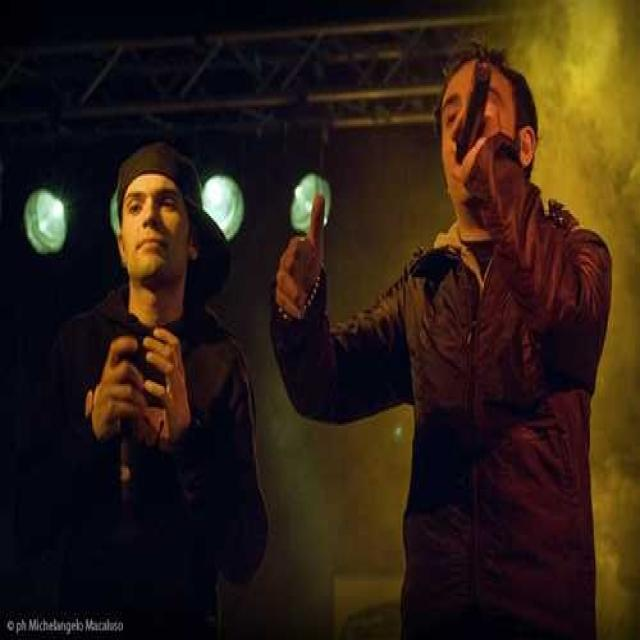microphone: (454, 60, 526, 186), (114, 309, 140, 506)
